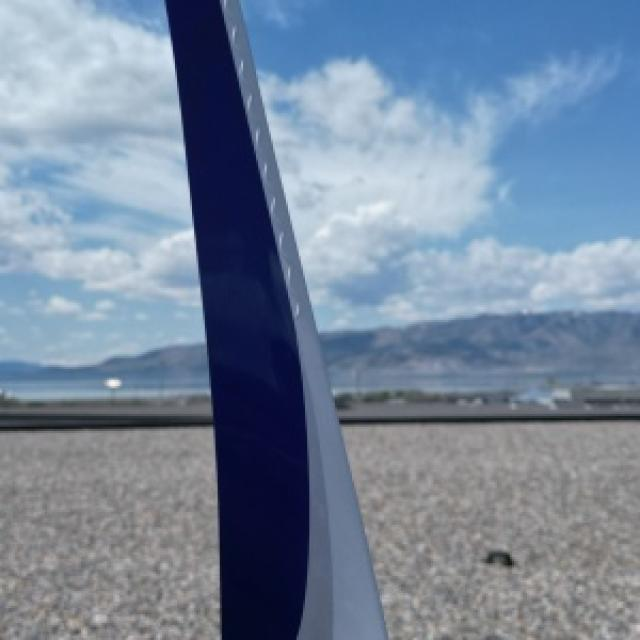healthy: (164, 0, 384, 638)
